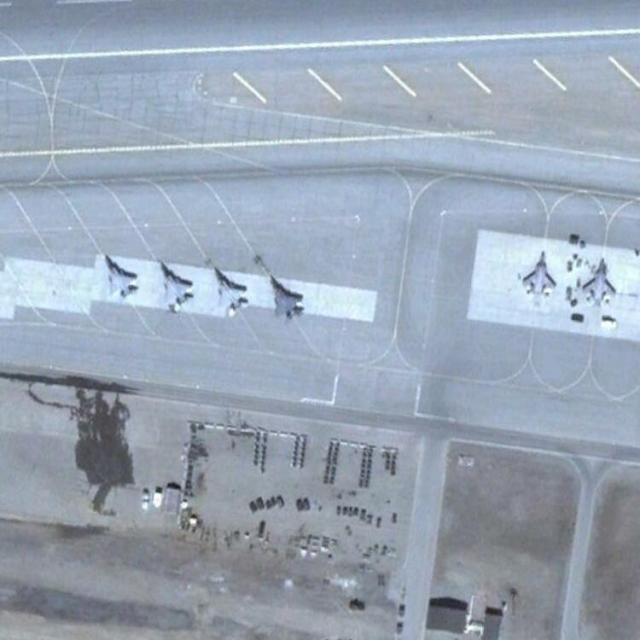fighter jet: (210, 267, 249, 316), (266, 276, 307, 322), (157, 262, 194, 312), (518, 250, 556, 297), (103, 256, 140, 300), (583, 257, 616, 306)
